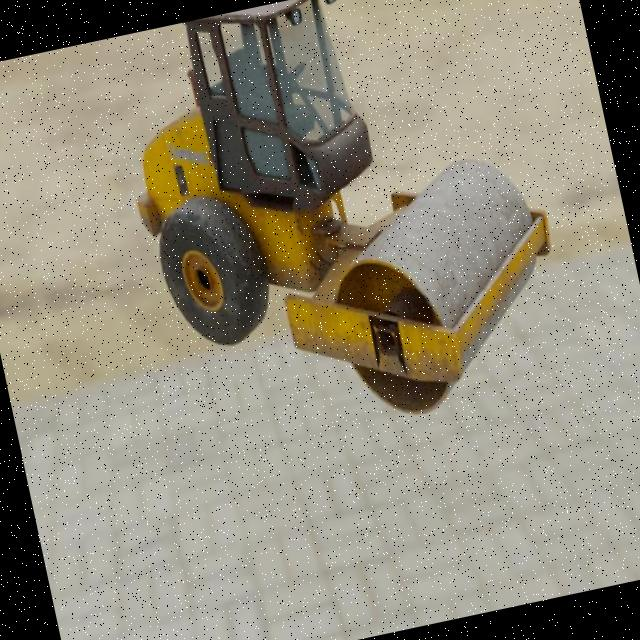Roller: (100, 0, 581, 464)
